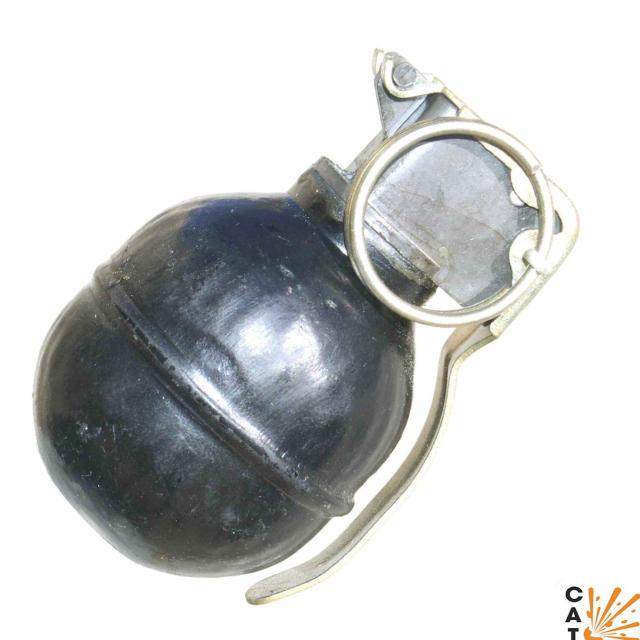grenade: (29, 44, 583, 607)
